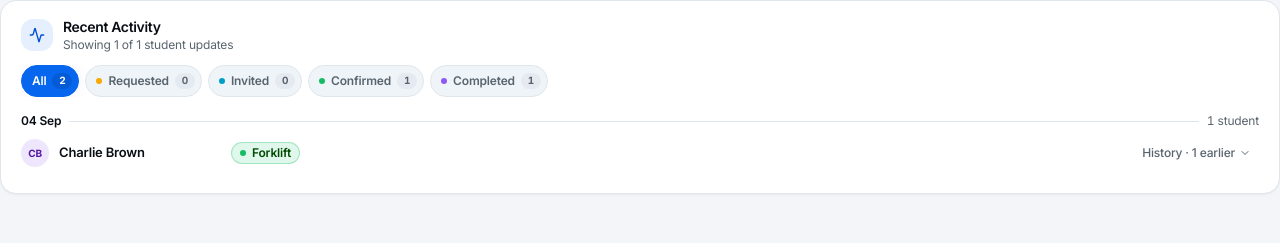
DashboardActivityFeed › renders timeline with previous enrollments history
Expected: the button "Charlie Brown" is shown, [59,143,145,163]
Expected: the text "Forklift" is shown, [252,145,291,161]
Click the button "History · 1 earlier".
click(1197, 153)  # box [1134,141,1259,165]
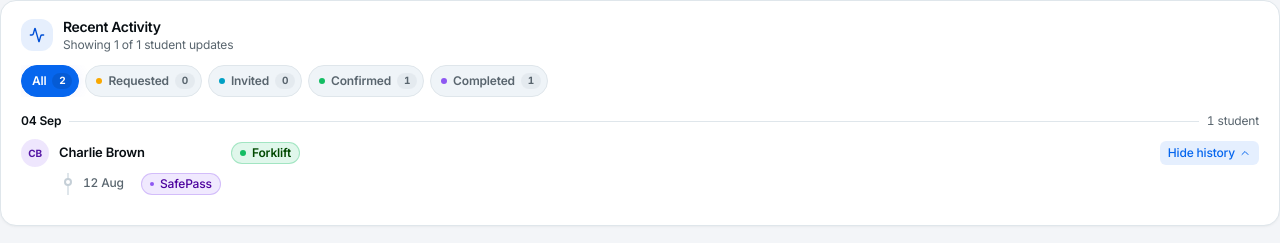
Now the button named "History · 1 earlier" is expanded, box [1160,141,1259,165]
Now the text "SafePass" is shown, box [160,176,212,192]
Now the text "12 Aug" is shown, box [83,173,131,191]
